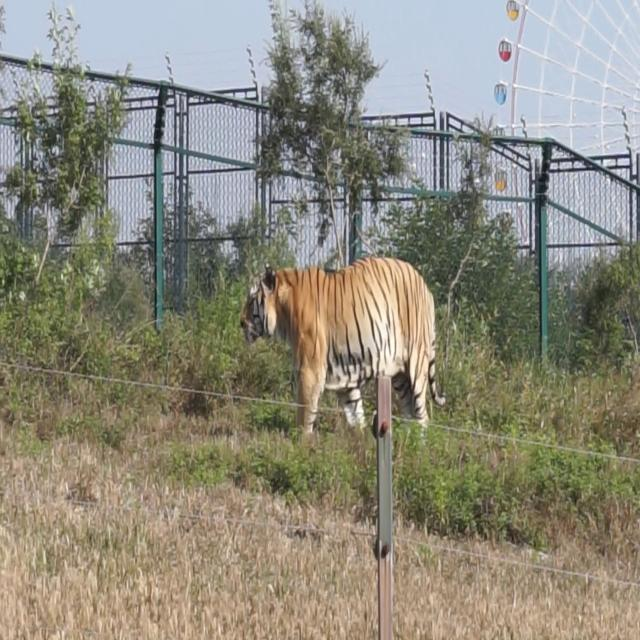Tiger: (238, 239, 469, 450)
